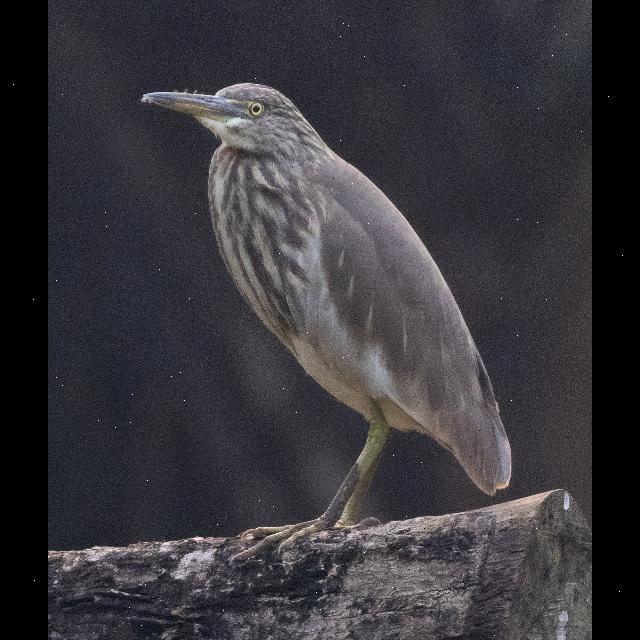heron: (125, 68, 522, 562)
